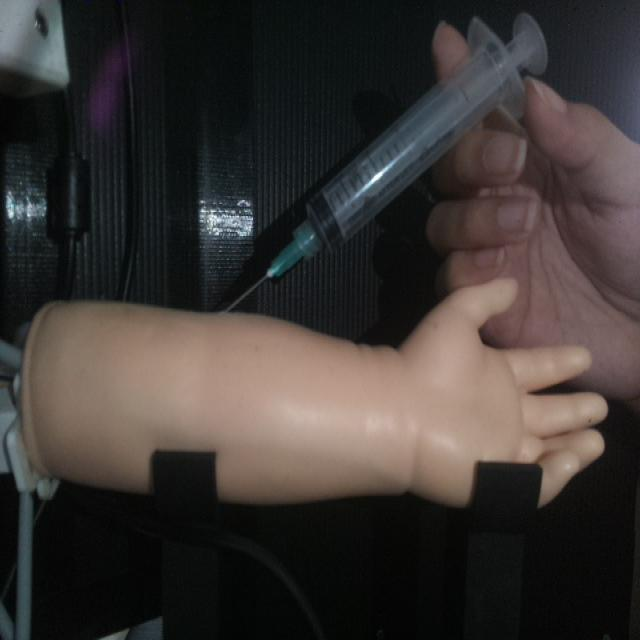Above 30 degrees: (219, 9, 549, 314)
